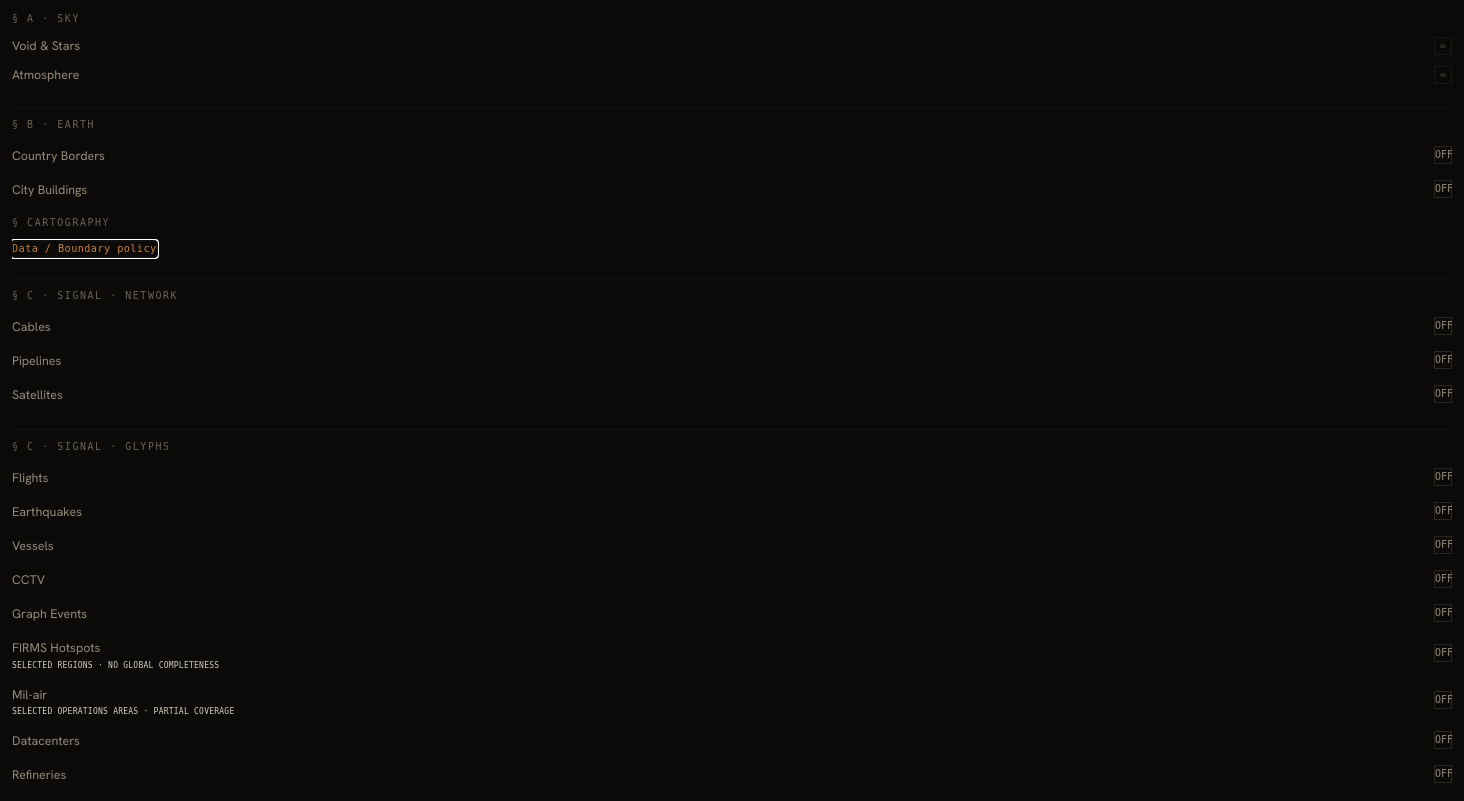
Test case: LayersPanel › opens accessible cartographic policy details for the committed revision
Click the button "Data / Boundary policy" at x=84, y=249, box [12,241,157,256]
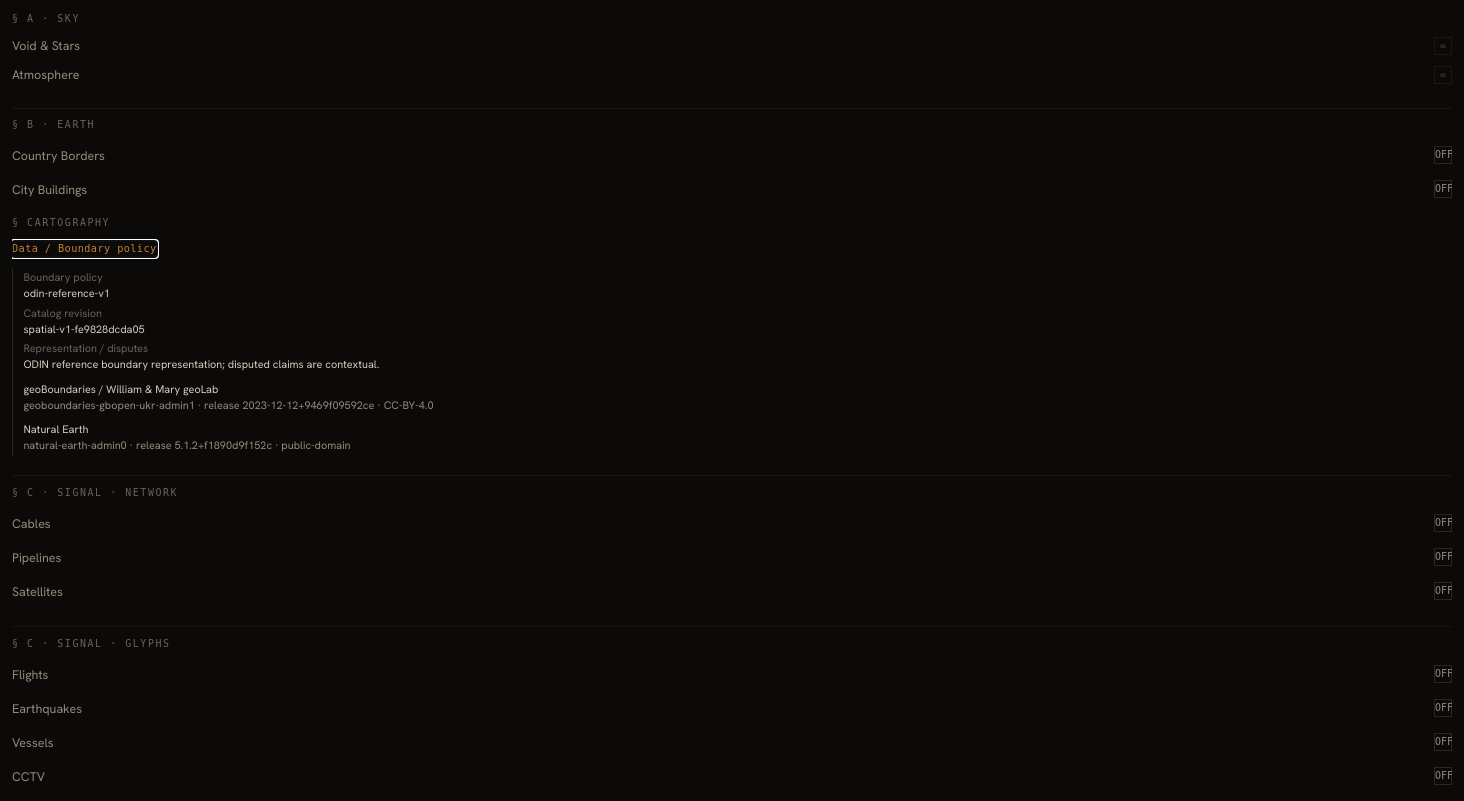
Expected: the element named "Boundary data and policy" shows "odin-reference-v1", [23,286,110,300]
Expected: the element named "Boundary data and policy" shows "spatial-v1-fe9828dcda05", [23,322,145,336]
Expected: the element named "Boundary data and policy" shows "ODIN reference boundary representation; disputed claims are contextual.", [23,357,379,371]
